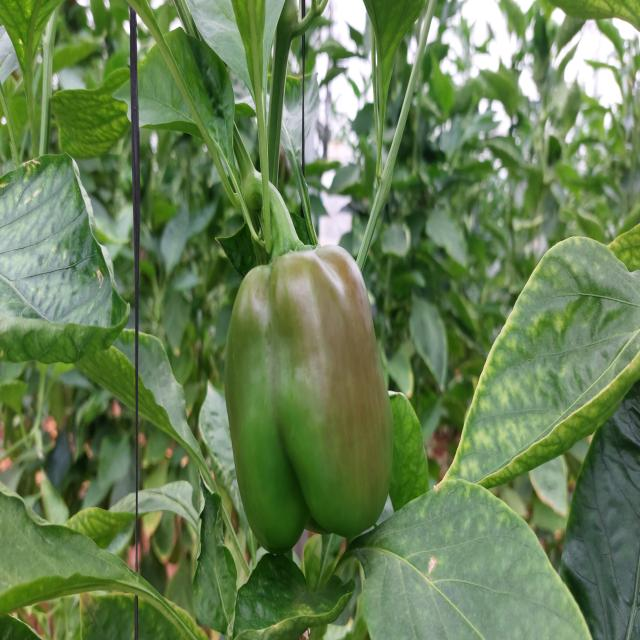BrownishRed--Can-be-Harvested: (209, 250, 406, 556)
